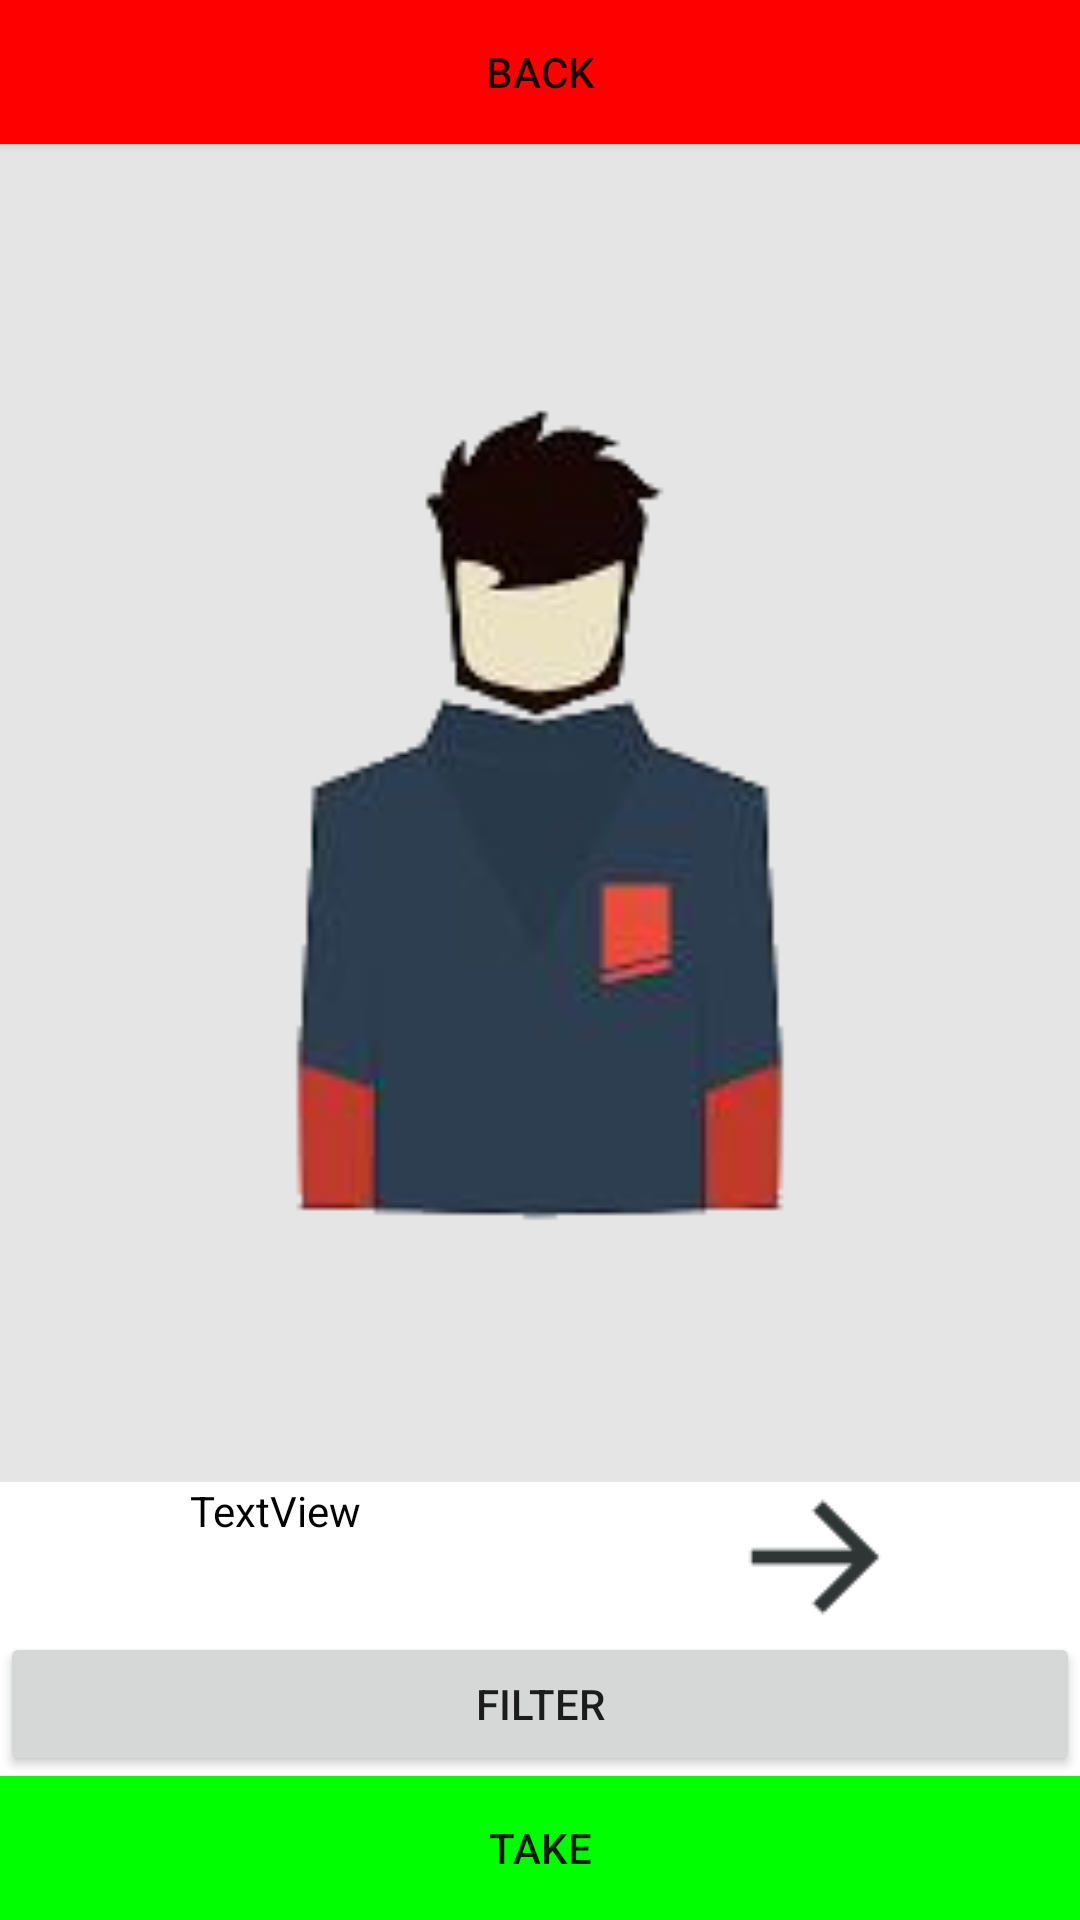

Screen size 1080px×1920px. Icon name, then its center in pixels as (x=x, y=y):
right: (x=814, y=1557)
